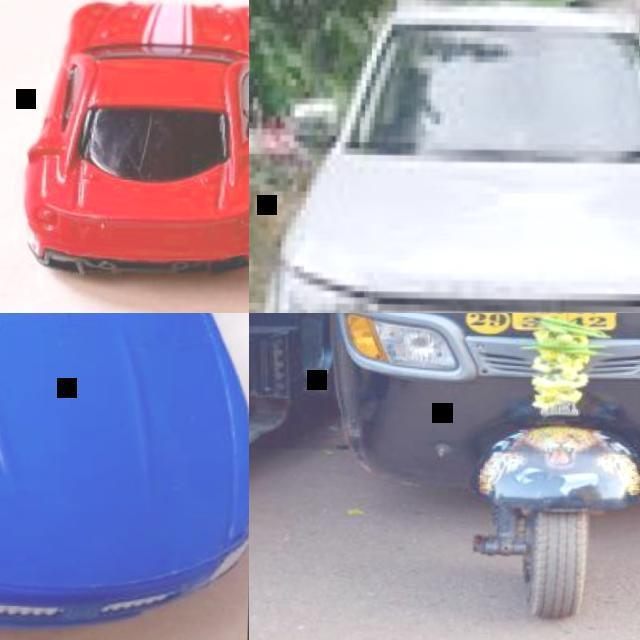car: (272, 0, 639, 466)
